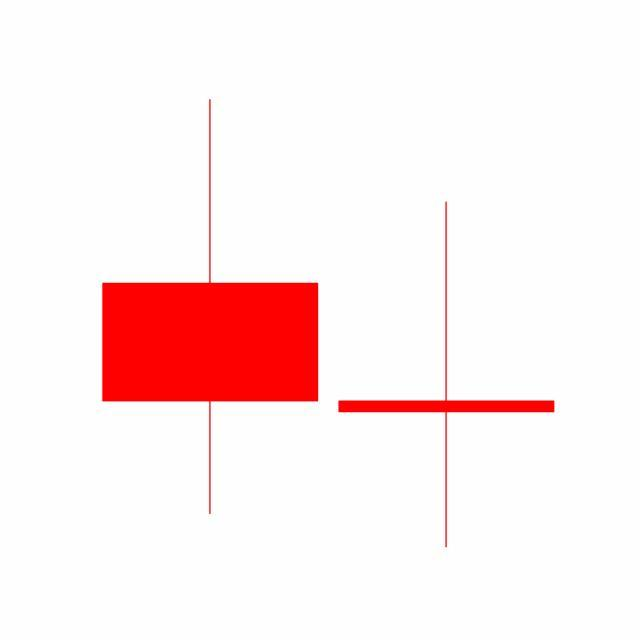Spinning Top: (328, 199, 566, 552)
